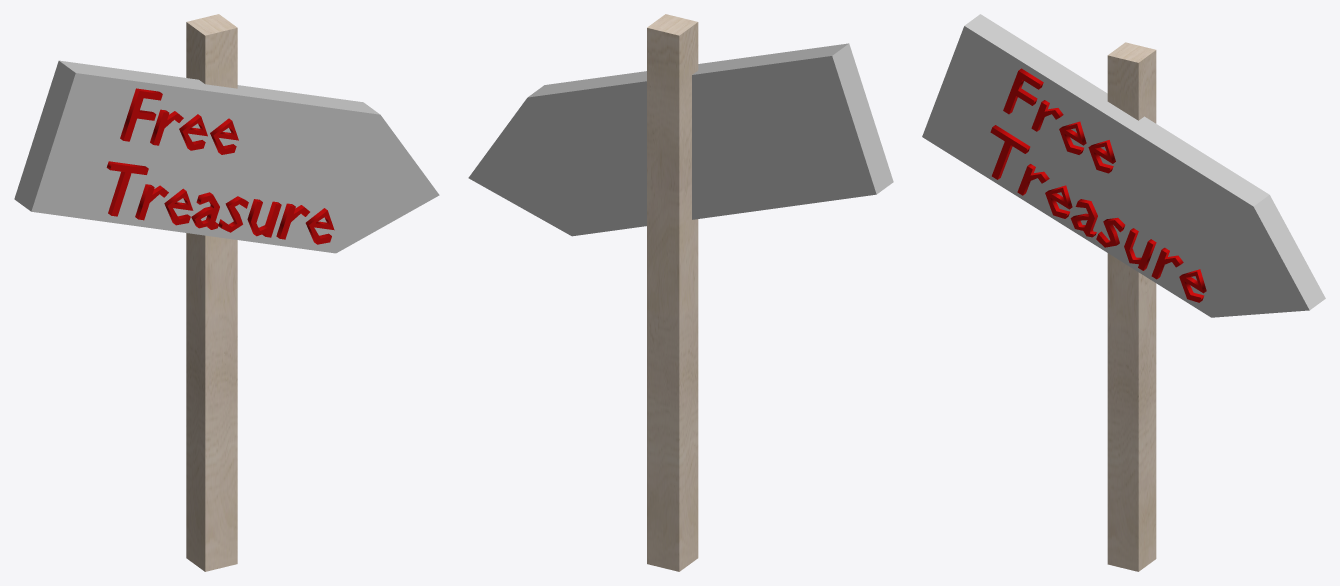
The model's file is sign.obj.
3 renders of one model, left to right at view 1: azimuth 30°, elevation 25°; view 2: azimuth 150°, elevation 25°; view 3: azimuth 330°, elevation 25°, orthographic. The views are drawn at different scales.
Parts seen in each view (by area): view 1: Cube, Stick, text; view 2: Cube, Stick; view 3: Cube, Stick, text.
Part boxes in pixels (bbox=[...]): Cube: bbox=[14, 60, 439, 253]; Stick: bbox=[186, 14, 237, 571]; text: bbox=[106, 88, 334, 244]; Cube: bbox=[468, 43, 893, 236]; Stick: bbox=[647, 14, 698, 571]; Cube: bbox=[922, 14, 1325, 317]; Stick: bbox=[1107, 42, 1156, 571]; text: bbox=[990, 68, 1206, 302].
Size of the model in its own units: 0.4868 by 0.6162 by 0.0681.
